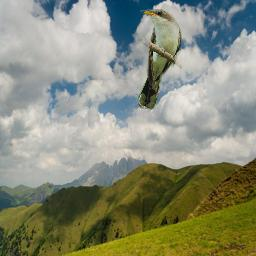Cuckoo: (138, 9, 182, 109)
